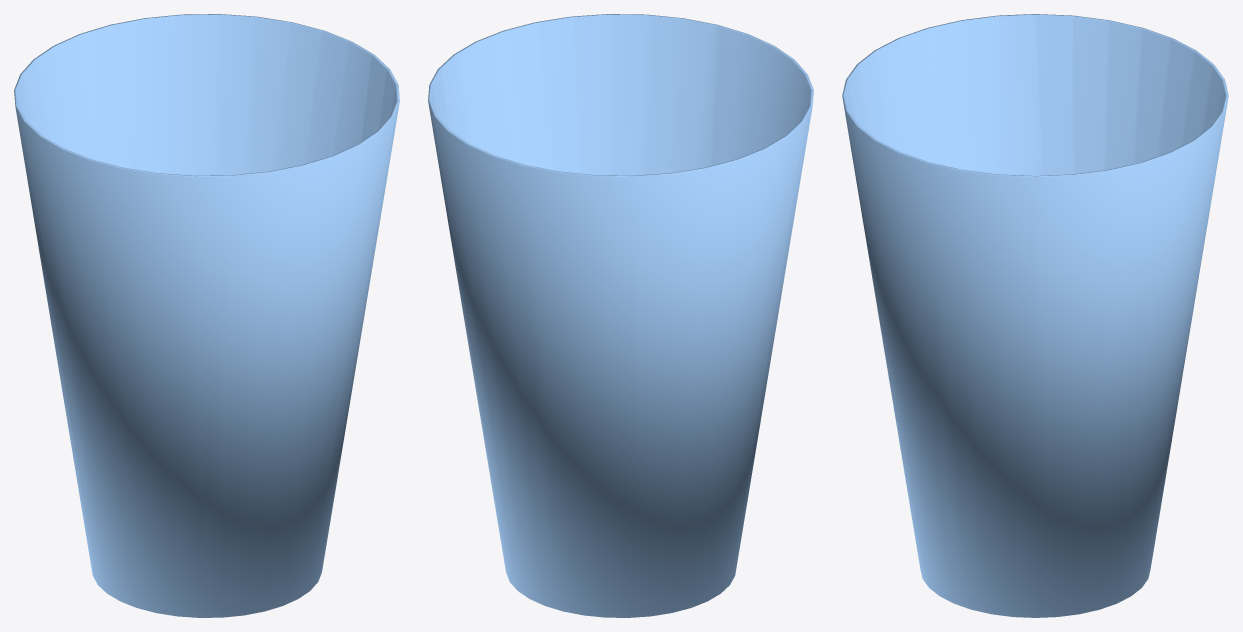
Rendered from Cup_Made_By_Tyro_Smith.obj.
3 renders of one model, left to right at view 1: azimuth 30°, elevation 25°; view 2: azimuth 150°, elevation 25°; view 3: azimuth 270°, elevation 25°, orthographic.
Visible parts, largest first — view 1: Cylinder_Cylinder.003; view 2: Cylinder_Cylinder.003; view 3: Cylinder_Cylinder.003.
Boxes of the visible parts, x1,y1,x2,y2 form: Cylinder_Cylinder.003: (14, 14, 399, 617); Cylinder_Cylinder.003: (428, 14, 813, 617); Cylinder_Cylinder.003: (842, 14, 1228, 617).
Size of the model in its own units: 2.63 by 3.55 by 2.63.
